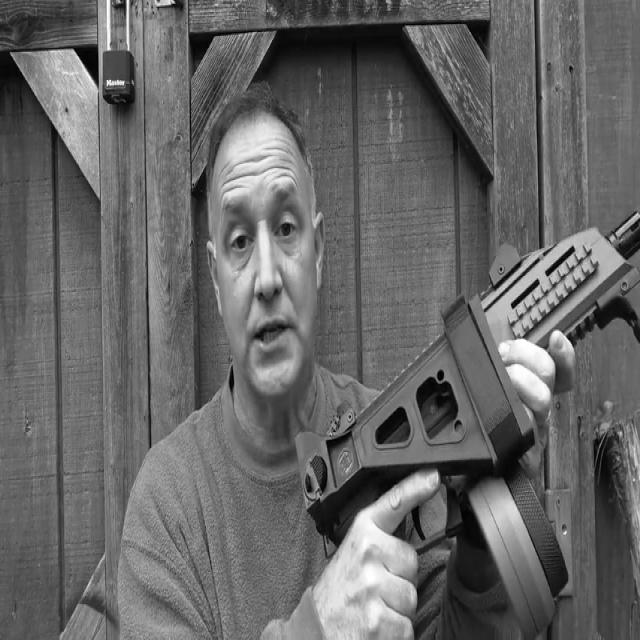Sub-machine-gun: (305, 173, 639, 640)
